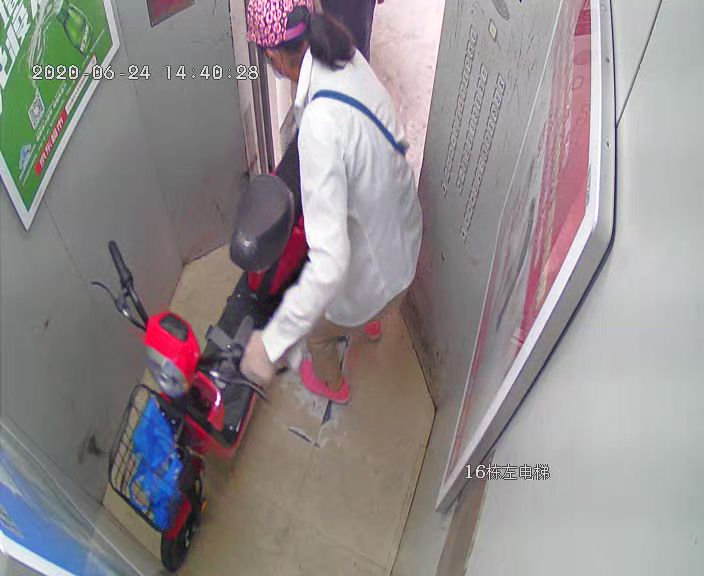Electric-bicycle: (102, 143, 302, 566)
